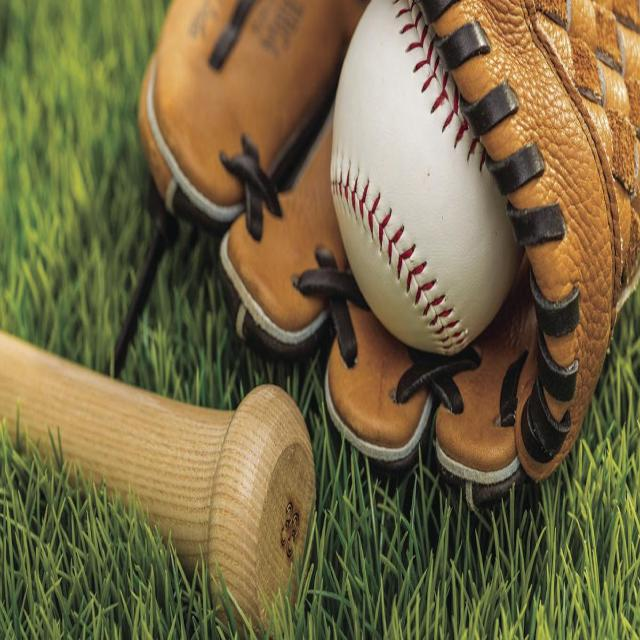baseball: (332, 3, 522, 358)
